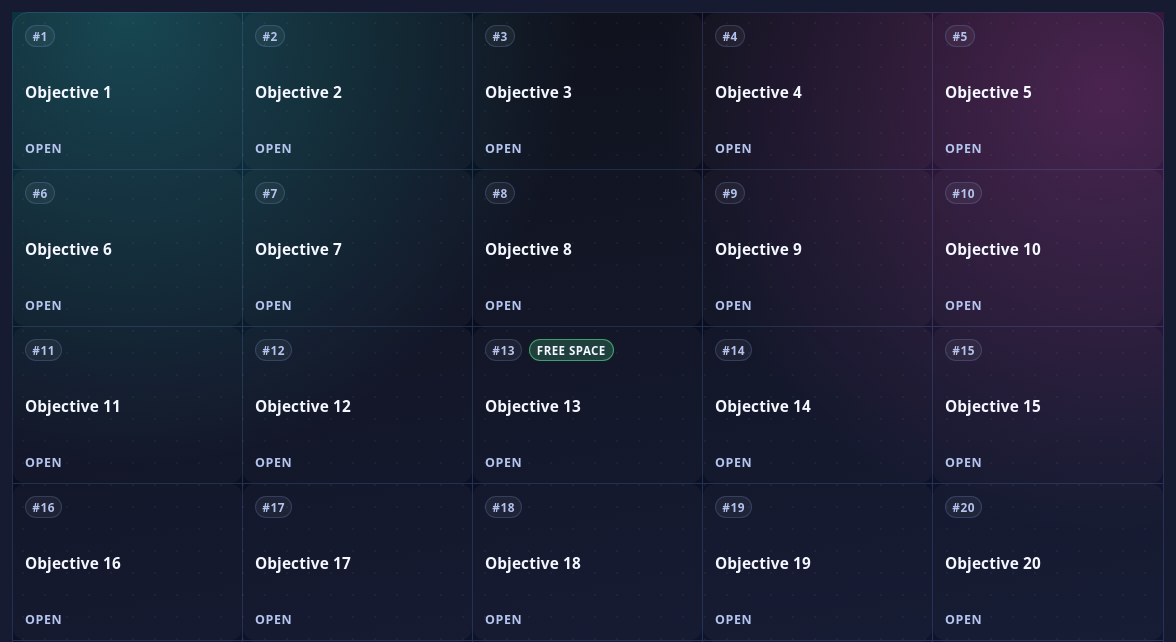
Test: PlayerBoardGrid › coalesces rapid toggles to final local state
Click the button "#1 Objective 1 Open": (128, 91) [13,13,242,169]
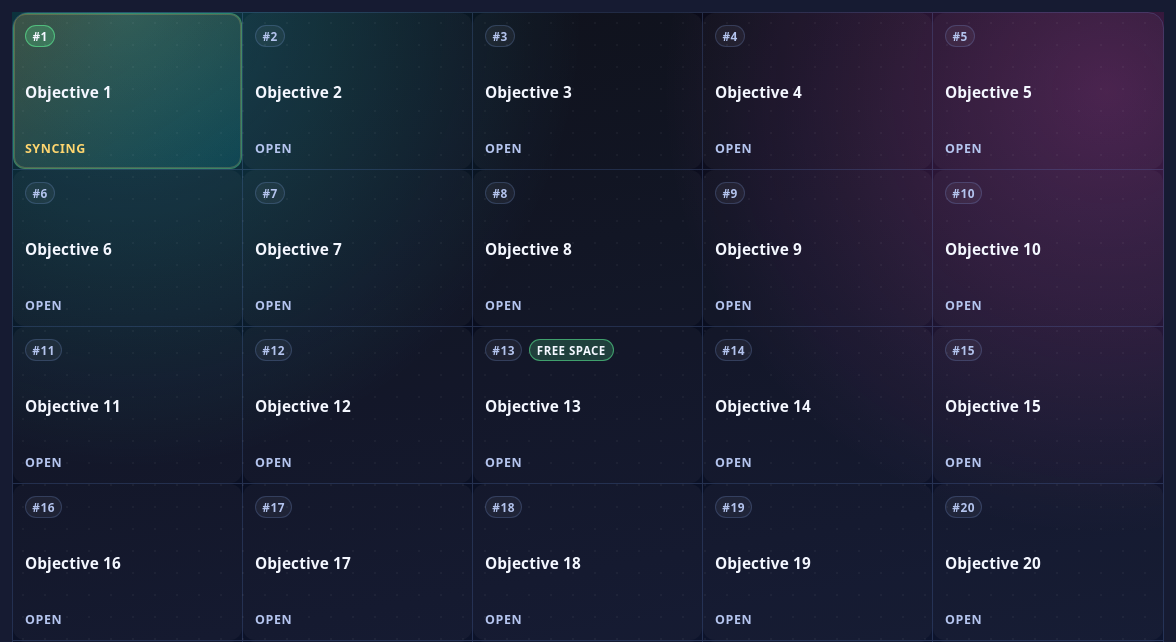
Click the button "#1 Objective 1 Syncing": (128, 91) [13,13,242,169]
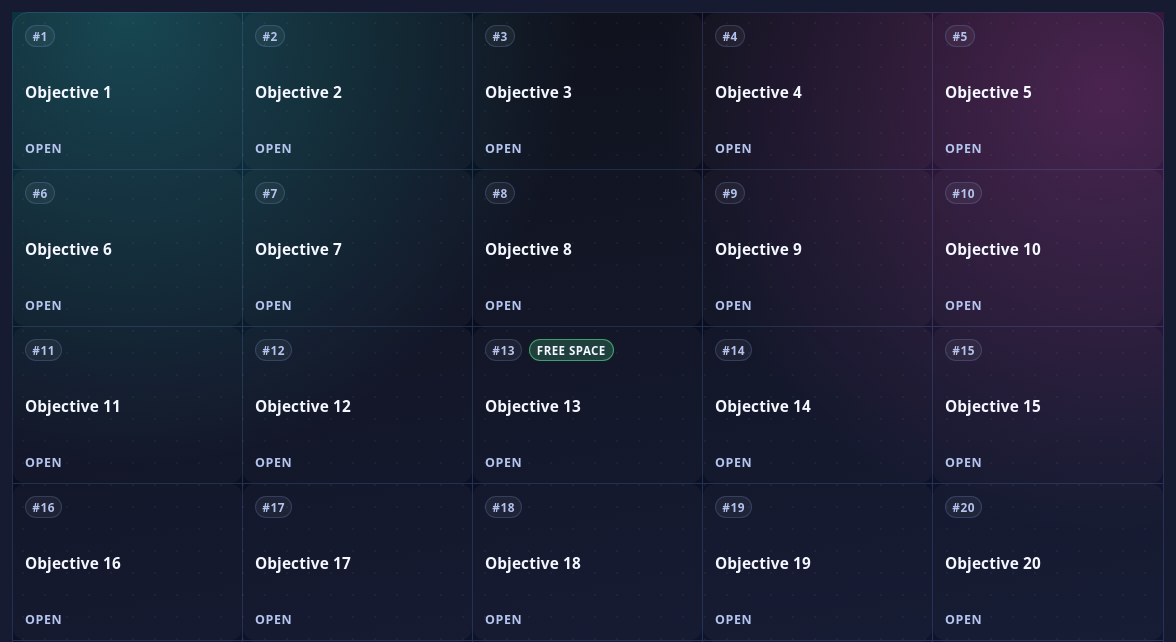
Result: the button "#1 Objective 1 Open" is shown at [13,13,242,169]
